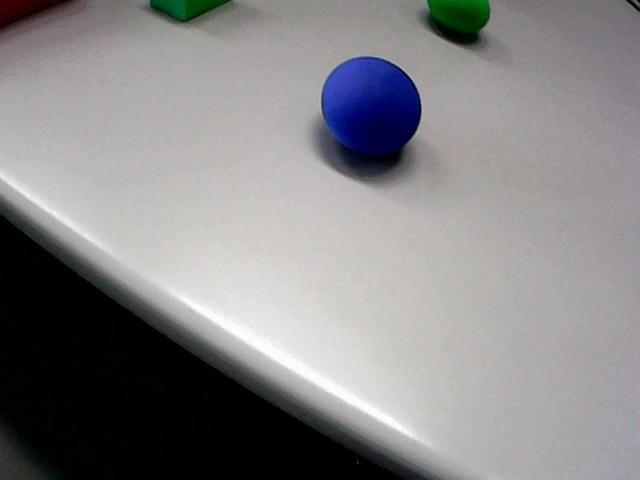red_block: (0, 0, 64, 24)
